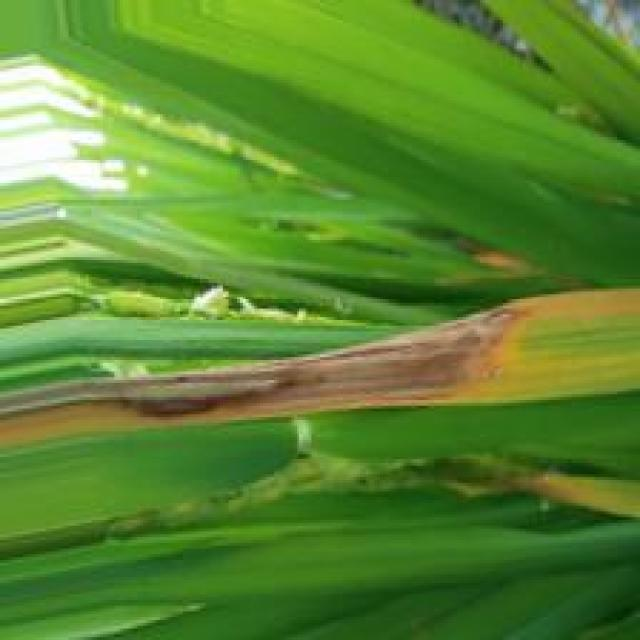Leaf_Scald: (3, 308, 529, 430)
